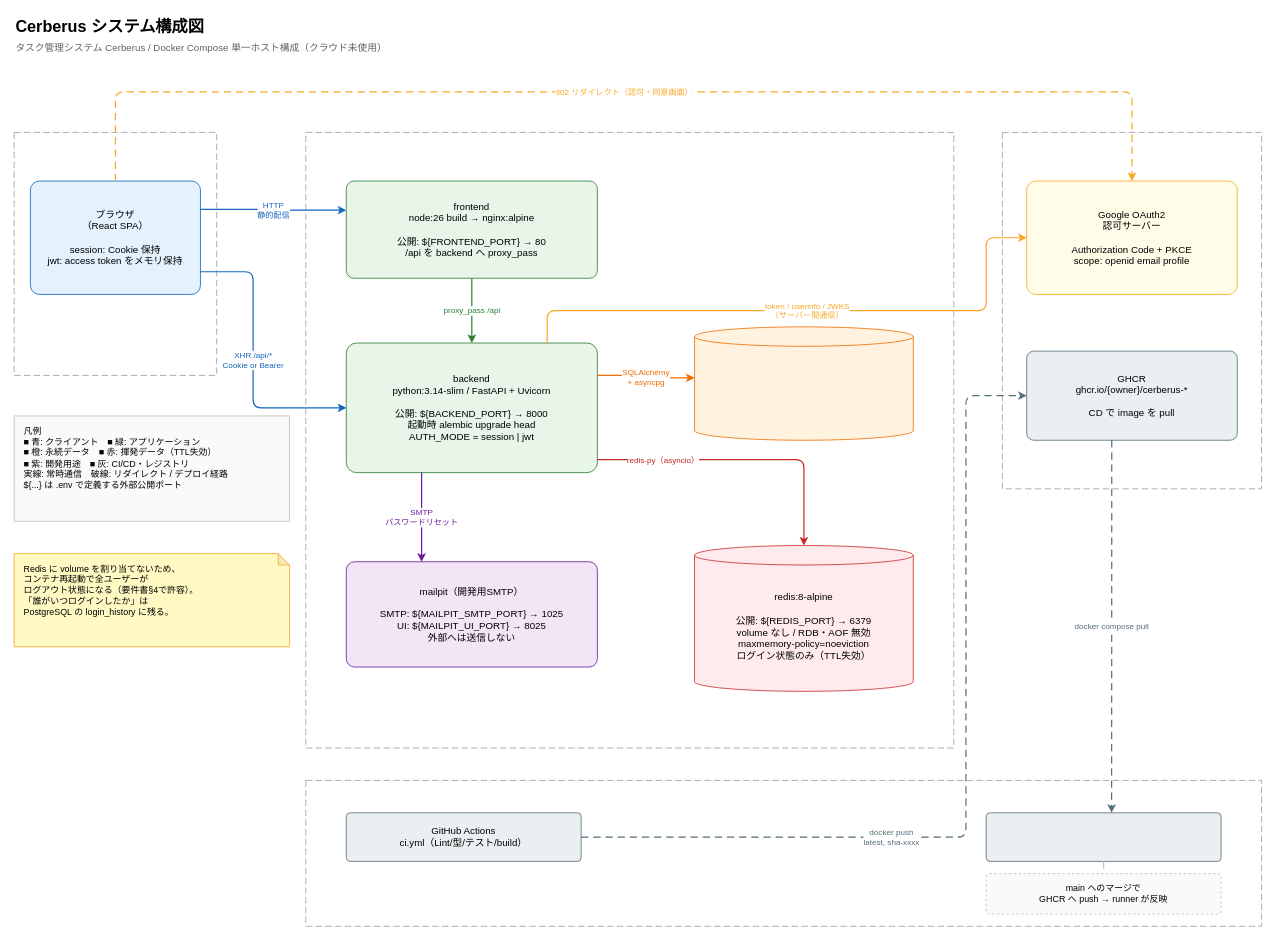
This 1276x940 diagram has some shape labels left out. The box of each missing label's shape, as (x1, y1, x2, y2) in pixels:
CI / CD: (305, 780, 1262, 926)
Docker Compose / network: cerberus_net: (305, 132, 954, 748)
postgres:17-alpine 公開: ${POSTGRES_PORT} → 5432 volume: pgdata（永続化あり） 永続データ 7テーブル: (694, 326, 913, 440)
self-hosted runner cd.yml（pull → compose up -d）: (985, 812, 1221, 861)
クライアント: (13, 132, 217, 375)
外部サービス: (1002, 132, 1262, 489)
